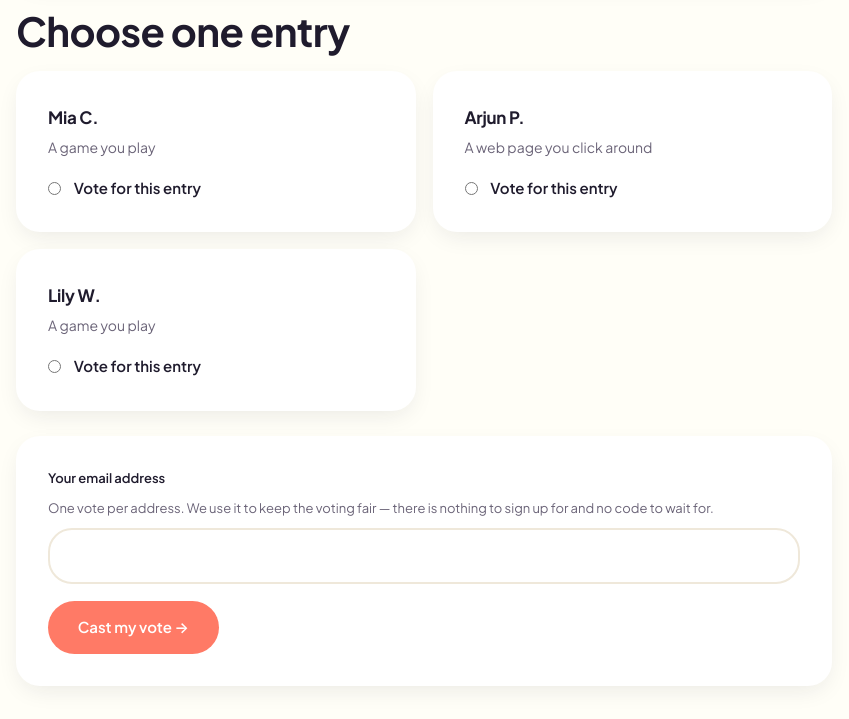
PublicVotePage — casting a vote › refuses to send without an entry or a usable email
(page scrolled)
Check: the list with test id "vote-showcase" is shown, box [16,71,832,411]
Type "not-an-email" into the field with test id "vote-email".
click(424, 556); type("not-an-email")  # box [48,528,800,584]
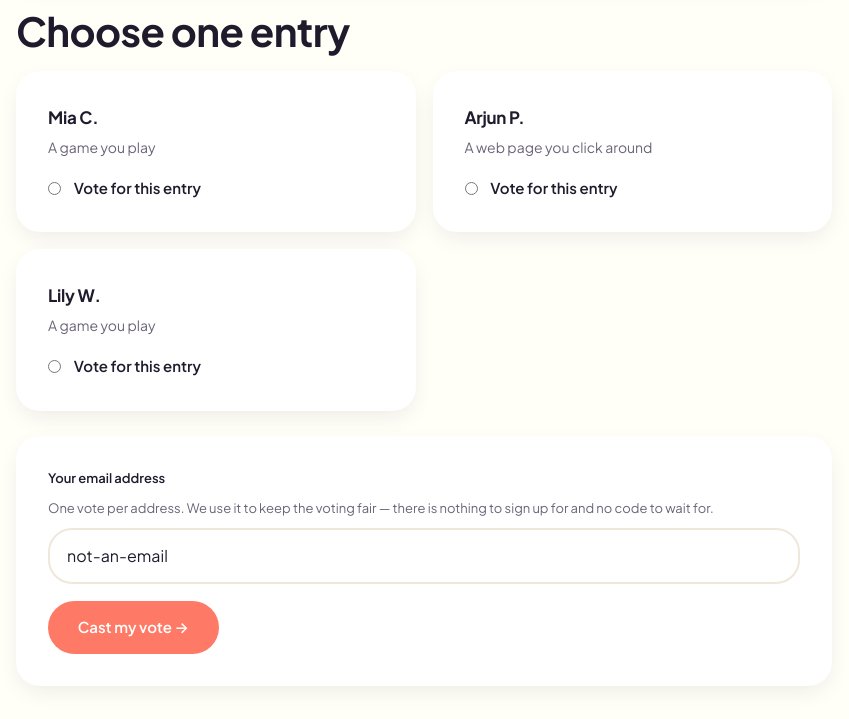
Click the button with test id "vote-submit".
click(133, 627)  # box [48,601,219,654]
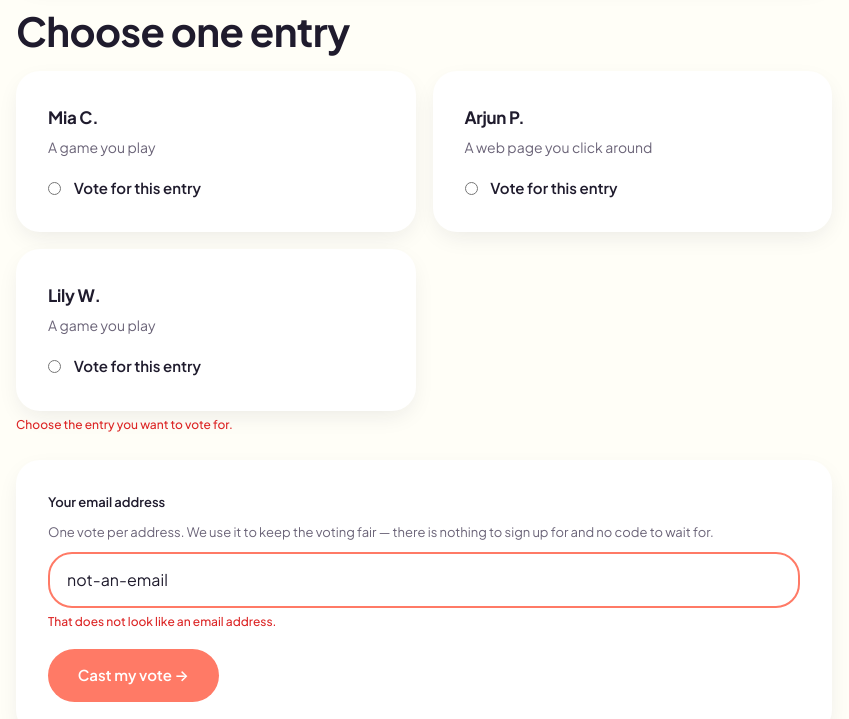
Check: the text "Choose the entry you want to vote for." is shown, box [16,417,233,432]
Check: the text "That does not look like an email address." is shown, box [48,614,276,629]
